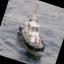fishing boat: (9, 0, 58, 61)
